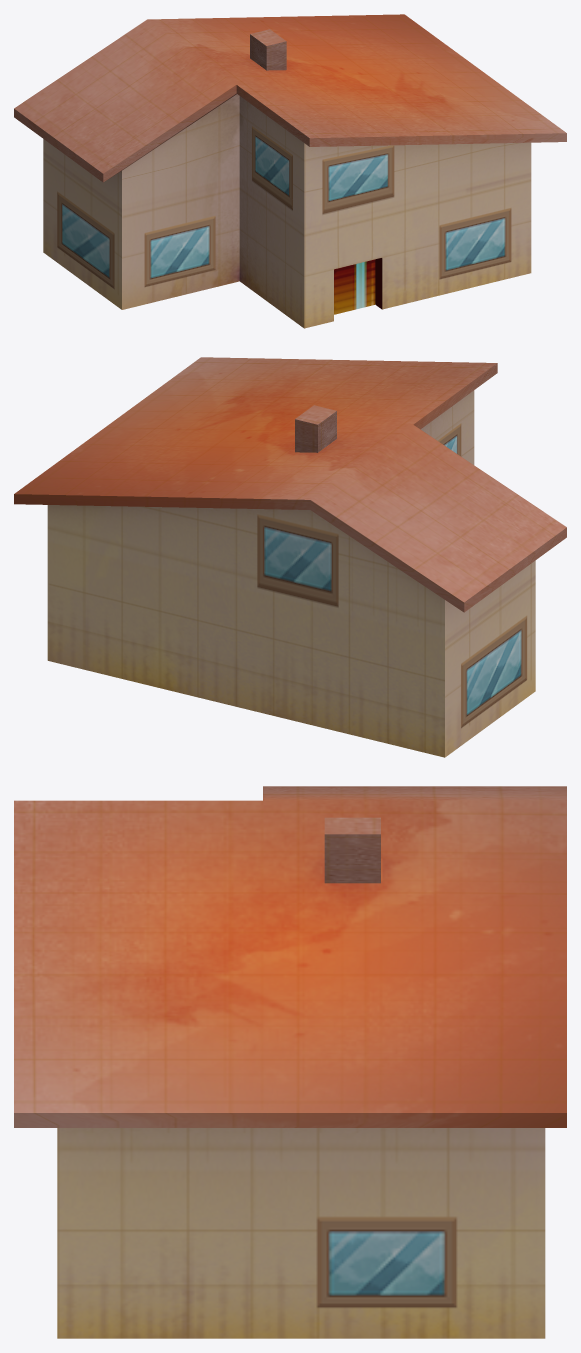
Rendered from House_v04.fbx.
3 views of the same model, one above another, from view 1: azimuth 30°, elevation 25°; view 2: azimuth 150°, elevation 25°; view 3: azimuth 270°, elevation 25° (orthographic). The views are drawn at different scales.
Visible parts, largest first — view 1: House_v04; view 2: House_v04; view 3: House_v04.
Part boxes in pixels (<box>): House_v04: <box>14,14,566,328</box>; House_v04: <box>14,357,566,757</box>; House_v04: <box>14,786,566,1338</box>.
Size of the model in its own units: 7.47 by 3.93 by 5.37.
